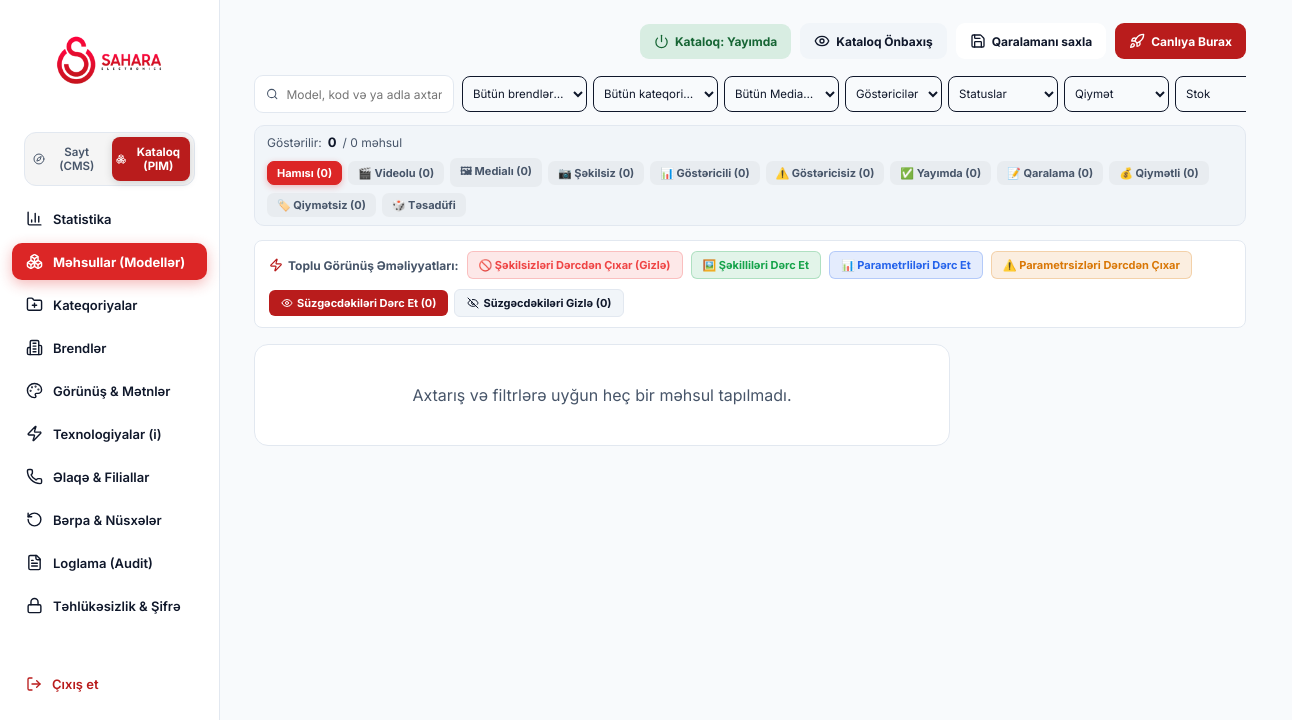
Test case: Catalog Admin Refinements: CSV/Excel Removal & Essential Tabs Integration › 6. Verifies Statistika in Catalog Admin and Products in Site Admin
Click the button "Statistika".
click(110, 218)  # box top-left (12, 200), bottom-right (207, 237)
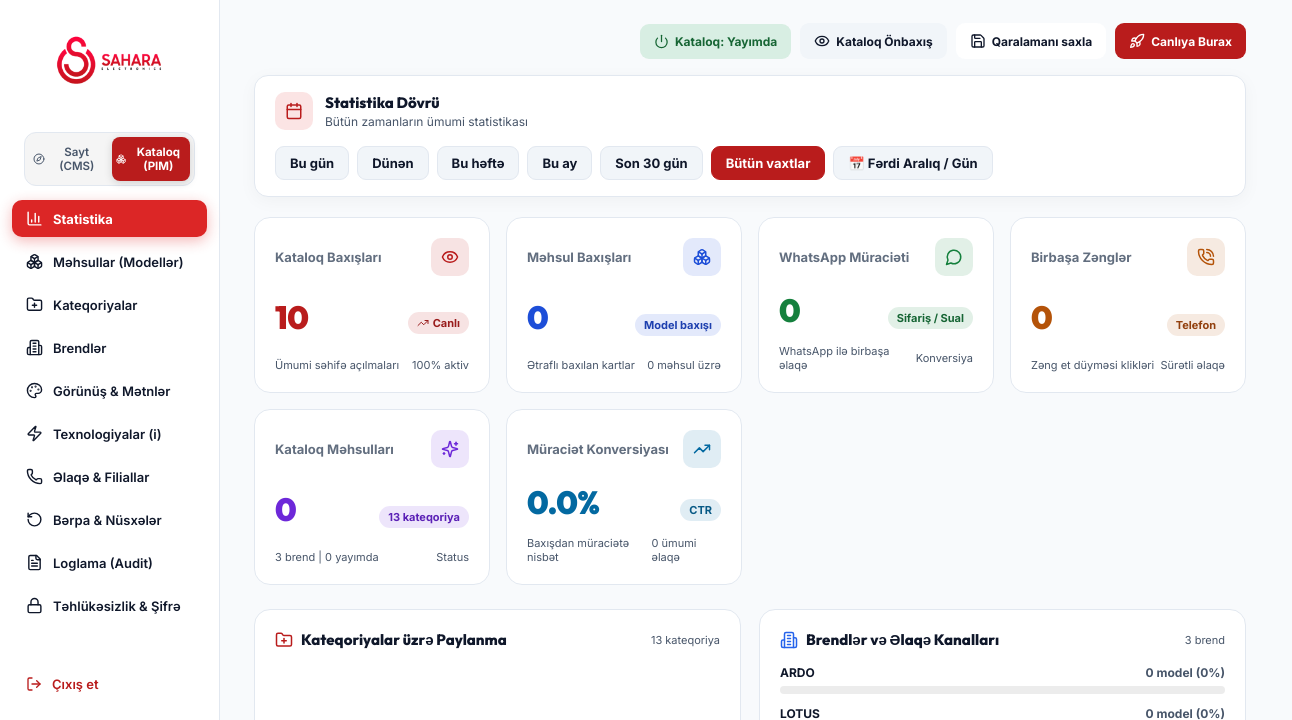
Expected: the heading "Statistika Dövrü" is shown, top-left (325, 93), bottom-right (440, 112)
6B. Switch to Site Admin mode and verify Products tab
Click the button "Sayt (CMS)".
click(68, 159)  # box top-left (29, 137), bottom-right (108, 181)
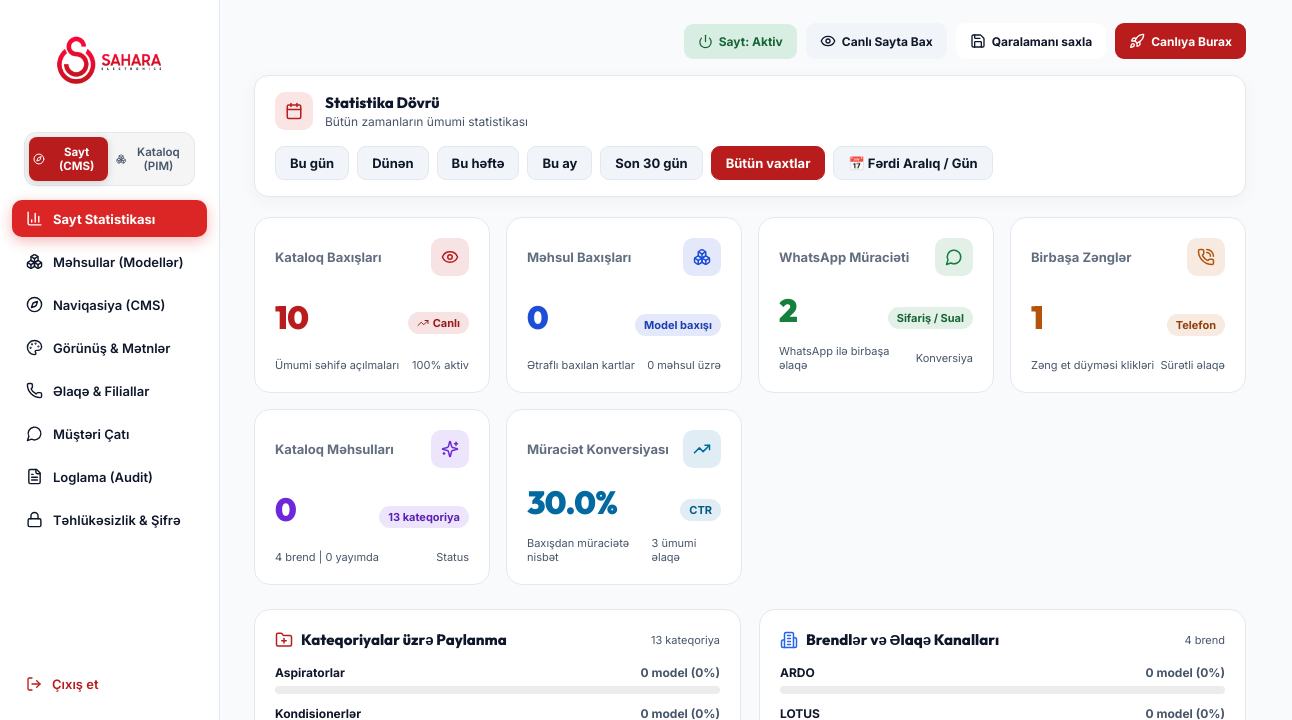
Click the button "Məhsullar (Modellər)".
click(110, 262)  # box top-left (12, 243), bottom-right (207, 280)
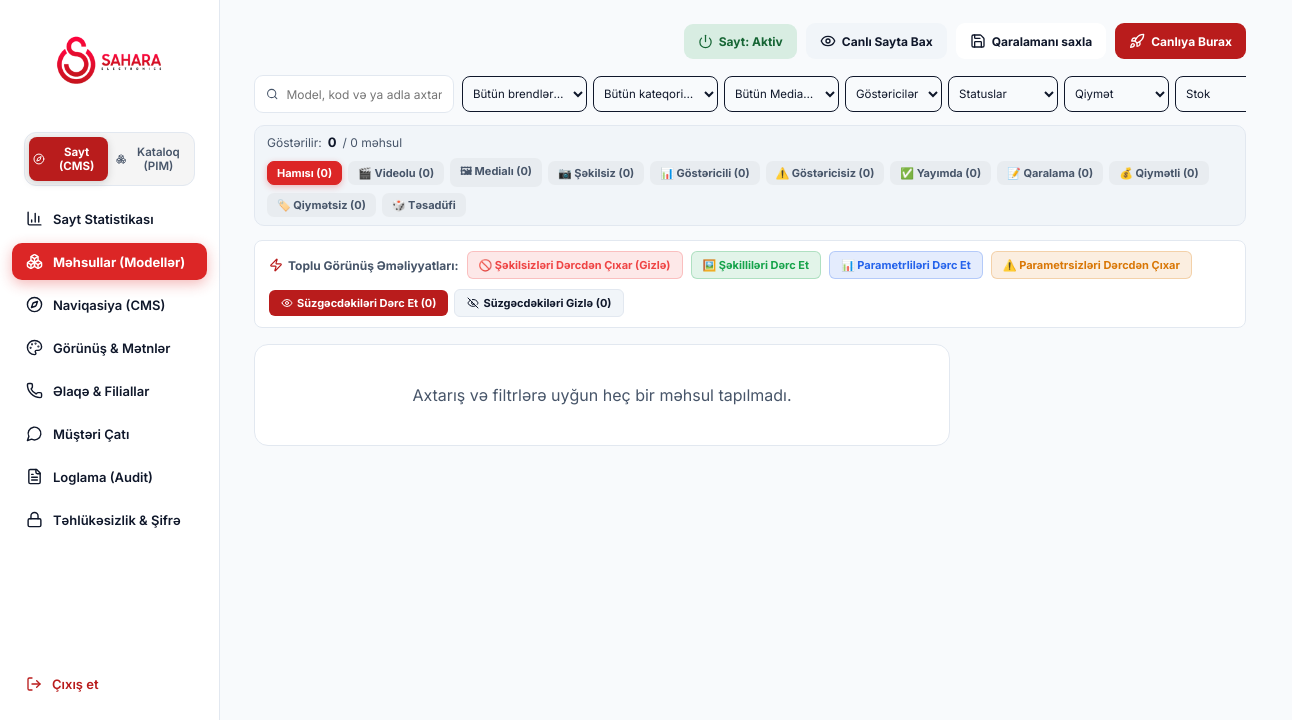
Expected: the field with placeholder "Model, kod və ya adla axtar..." is shown, top-left (286, 86), bottom-right (442, 102)
